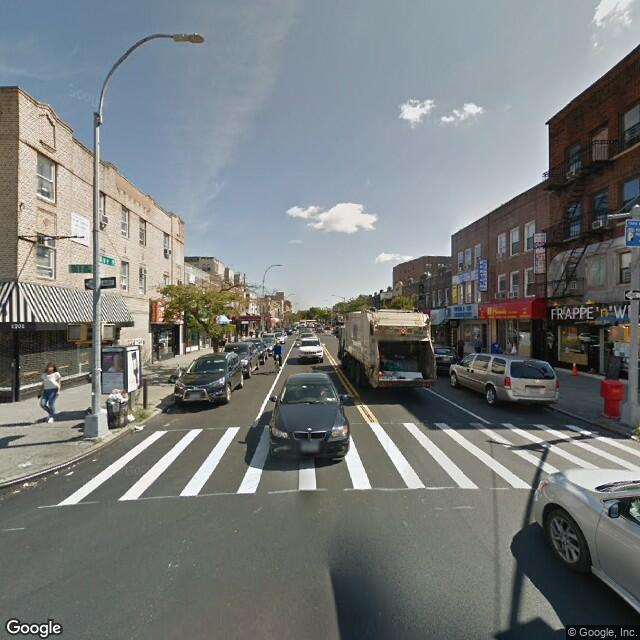litter: (77, 451, 114, 469), (45, 457, 87, 472), (49, 470, 77, 484), (16, 475, 40, 491), (128, 405, 139, 438)
